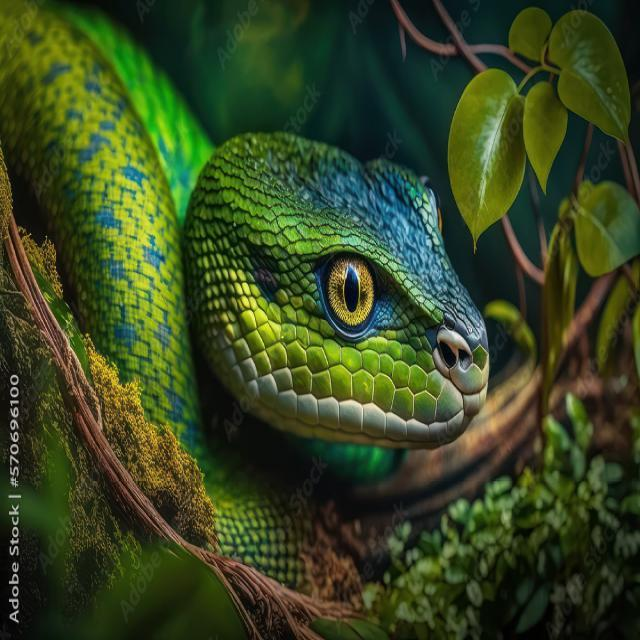Snake: (24, 0, 502, 546)
